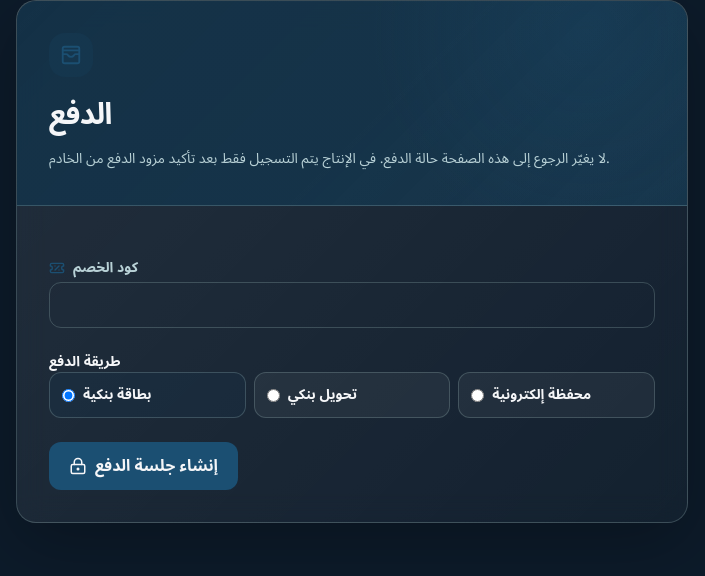
it: T7-A6.4 ar UI and financial contracts › checkout raw preserves error or disabled behavior
Click the button "إنشاء جلسة الدفع" at (143,466), box x1=49 y1=442 x2=238 y2=490
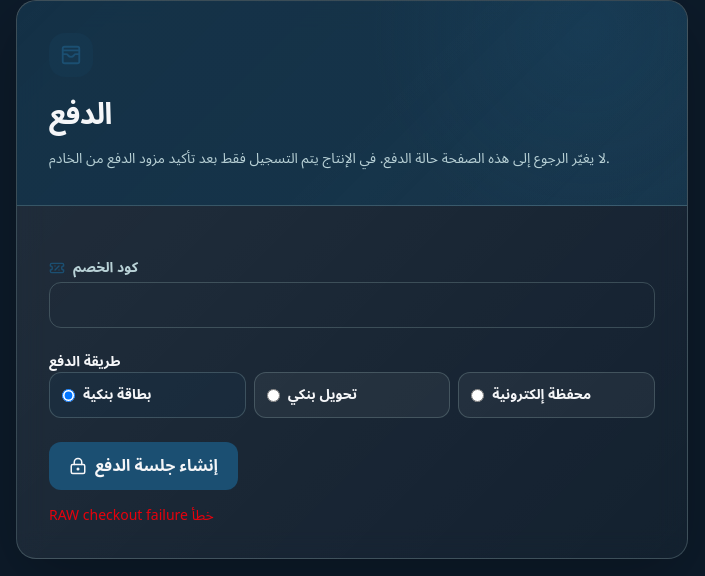
Now the message reads "RAW checkout failure خطأ", box x1=49 y1=501 x2=214 y2=530
